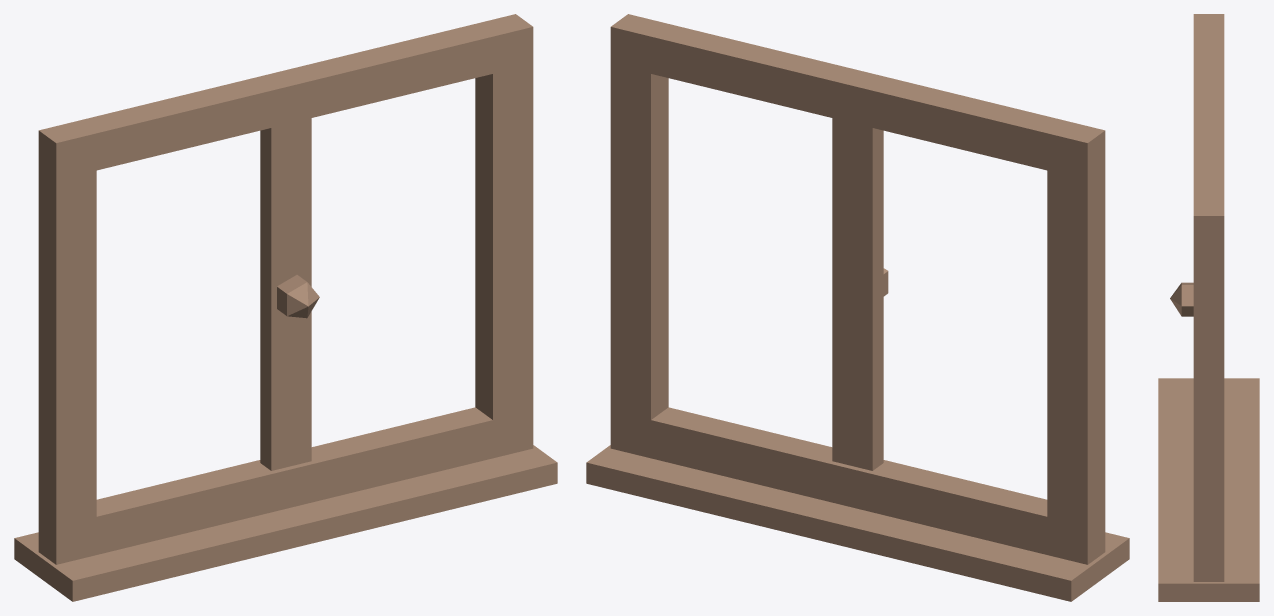
Rendered from Window_1D.fbx.
The picture shows the model from 3 angles, left to right: view 1: azimuth 30°, elevation 25°; view 2: azimuth 150°, elevation 25°; view 3: azimuth 270°, elevation 25°; orthographic projection. The views are drawn at different scales.
Visible parts, largest first — view 1: polySurface1623; view 2: polySurface1623; view 3: polySurface1623.
Boxes of the visible parts, bbox=[...] form: polySurface1623: bbox=[14, 14, 557, 601]; polySurface1623: bbox=[586, 14, 1129, 601]; polySurface1623: bbox=[1158, 14, 1259, 601].
Size of the model in its own units: 2.4 by 2.09 by 0.5.
1 material, 1 textured.
